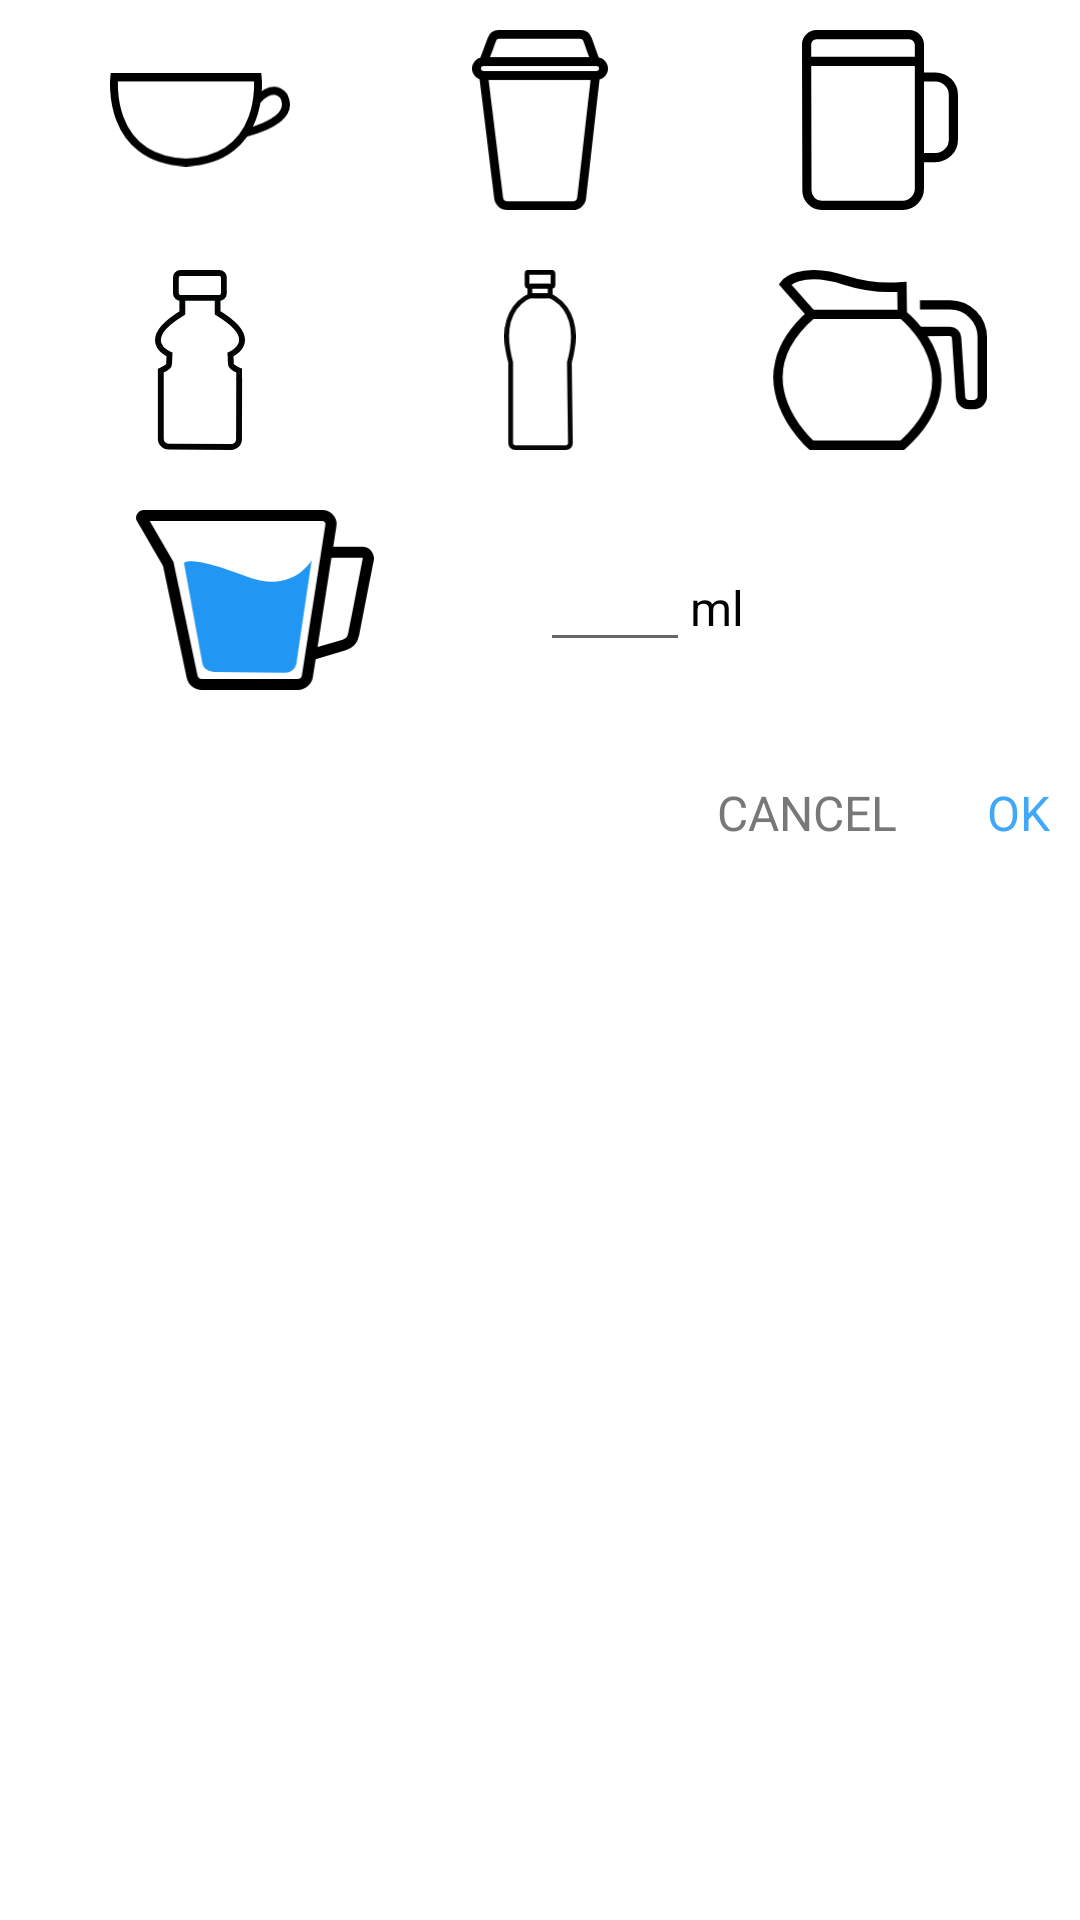

Icons on this 1080x1920 Android screen, each with the point to tap as (x,y):
cup customize: (255,600)
